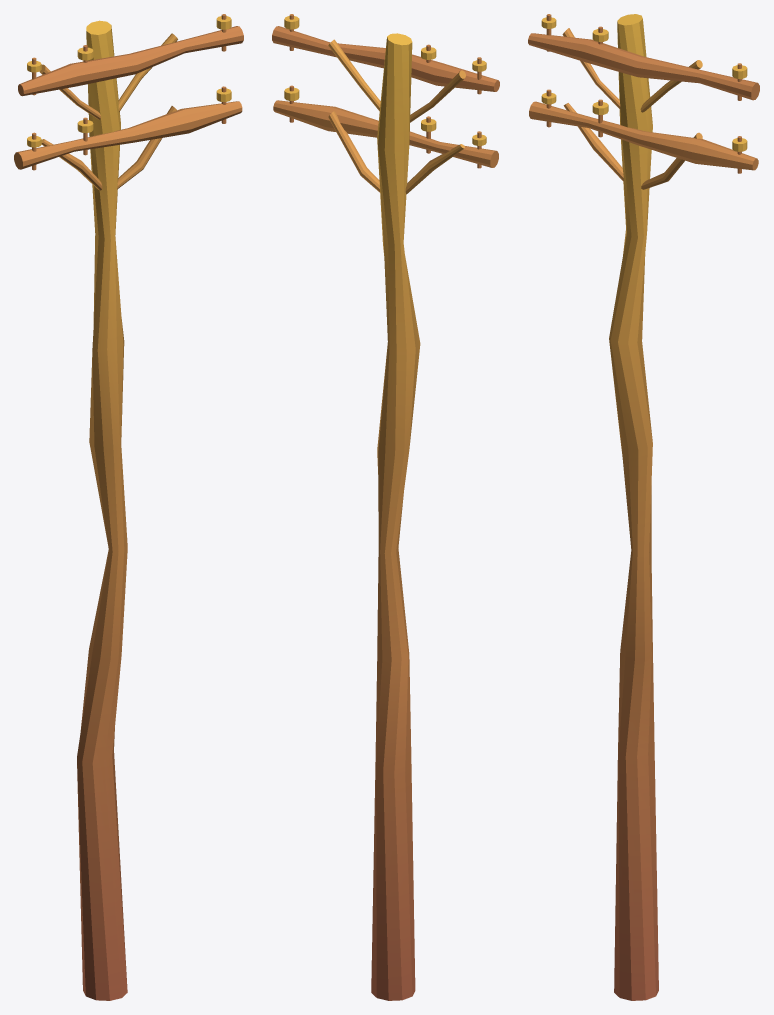
Rendered from TelephonePoleB.fbx.
3 renders of one model, left to right at view 1: azimuth 30°, elevation 25°; view 2: azimuth 150°, elevation 25°; view 3: azimuth 330°, elevation 25°, orthographic.
Parts seen in each view (by area): view 1: polySurface7; view 2: polySurface7; view 3: polySurface7.
Boxes of the visible parts, x1=… form: polySurface7: x1=14, y1=14, x2=243, y2=1000; polySurface7: x1=272, y1=14, x2=499, y2=1000; polySurface7: x1=528, y1=14, x2=759, y2=1000.
Size of the model in its own units: 48.52 by 203 by 11.74.
